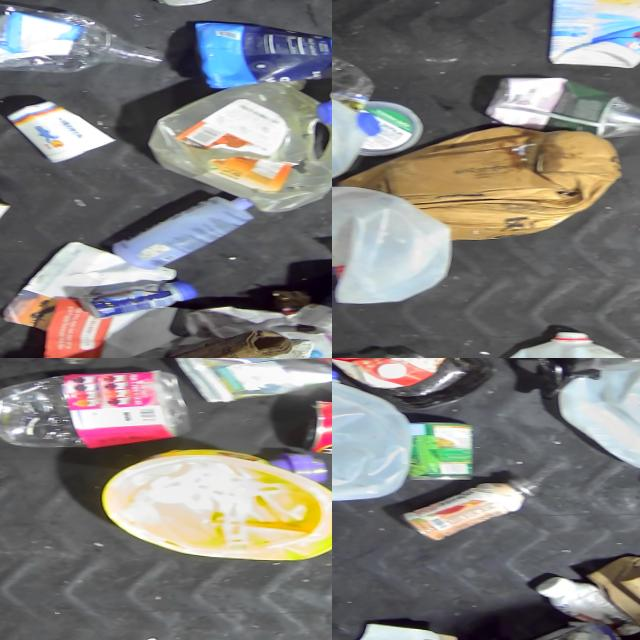can: (396, 421, 471, 479), (291, 395, 332, 467)
milk_jug: (332, 185, 454, 309), (332, 373, 407, 501), (566, 358, 640, 466), (464, 328, 639, 358), (332, 90, 381, 189)
non_white_jug: (153, 78, 315, 212), (185, 24, 332, 86)
plastic_bottle: (0, 368, 193, 449), (0, 4, 172, 71)
